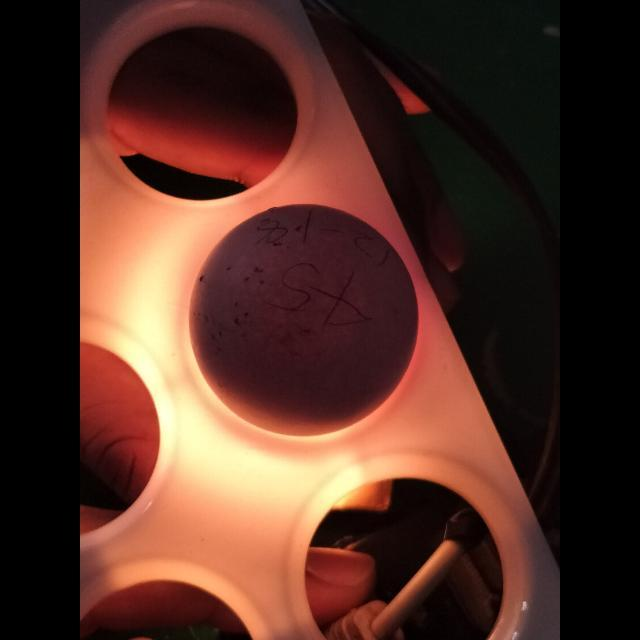Fertile: (195, 204, 422, 430)
